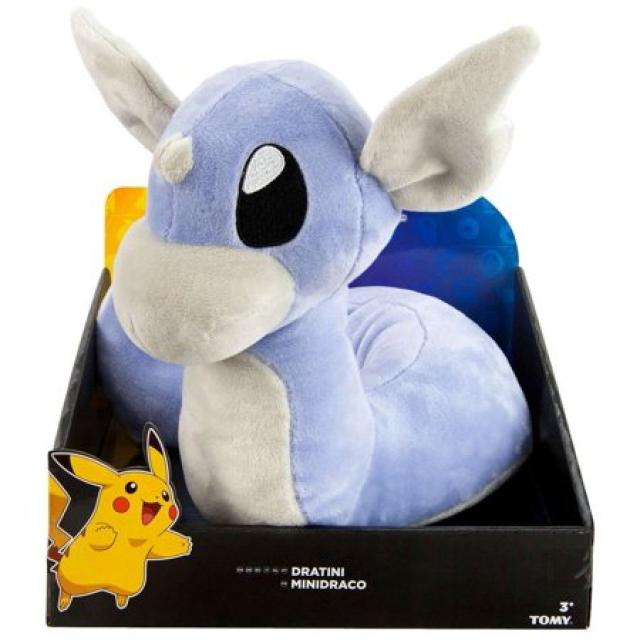Dratini: (111, 28, 539, 530)
Pikachu: (47, 455, 179, 612)
